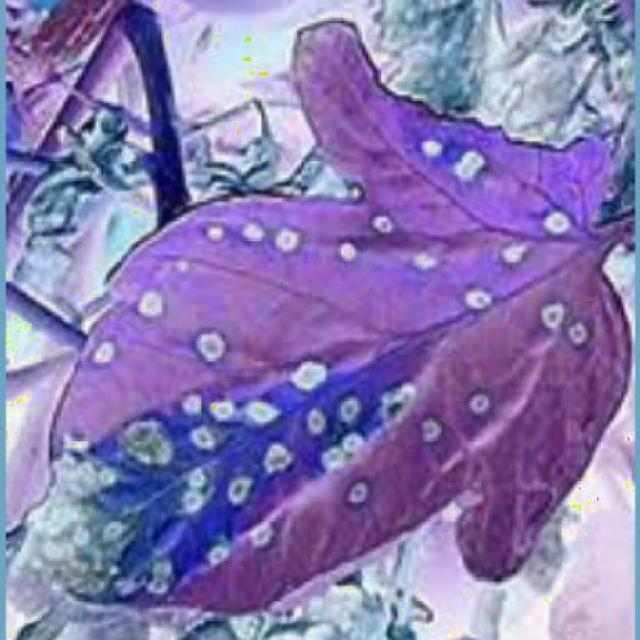Septoria leaf spot: (23, 18, 632, 624)
